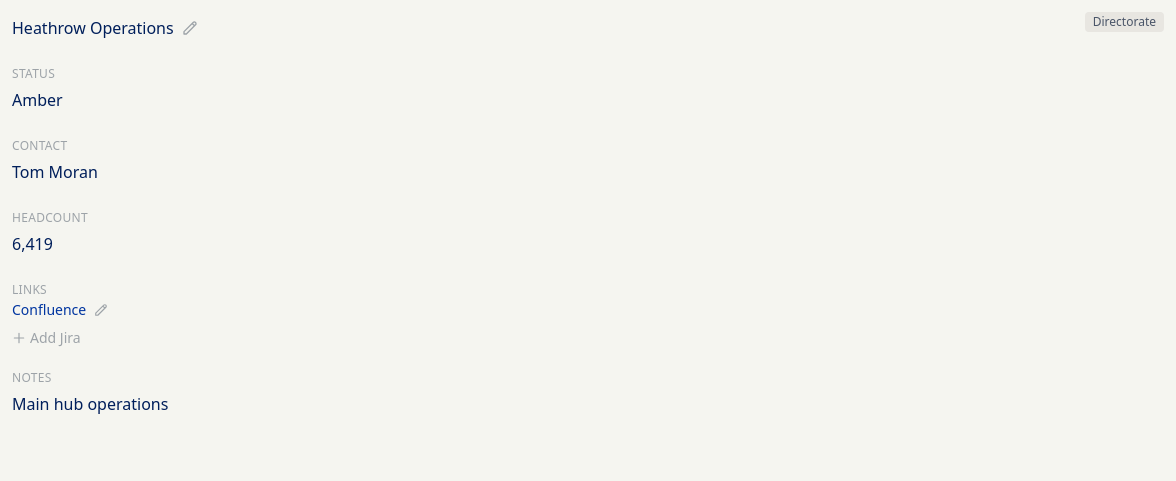
NodeEditor › error handling › shows error when update fails
Click the text "Tom Moran". click: (55, 172)
box: [12,160,98,184]
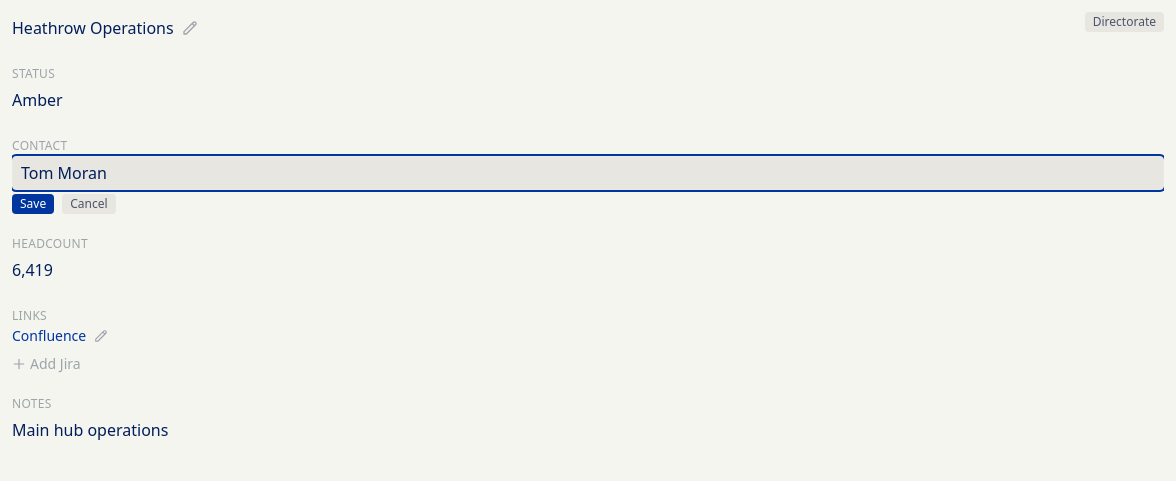
Replace the text in the field with "New Contact". click: (588, 173)
box: [12,156,1164,190]
Then press Enter
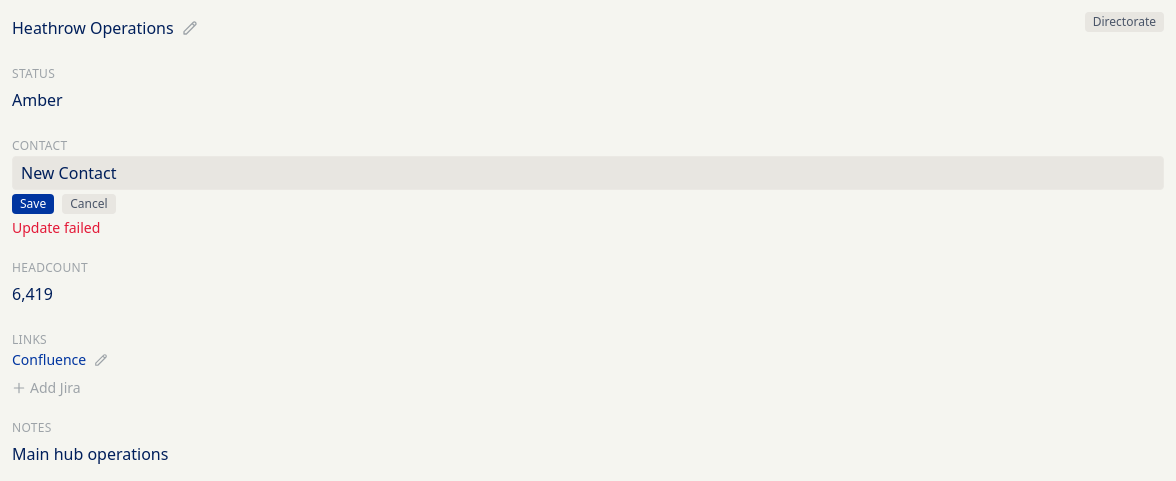
Expected: the text "Update failed" is shown, [12,218,100,237]
